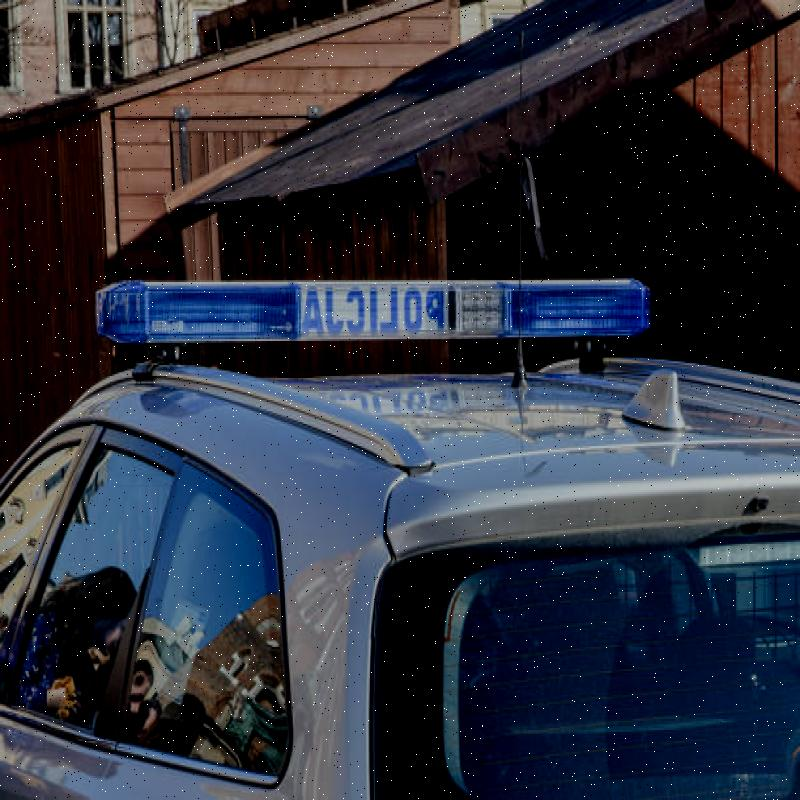AmbulanceSiren: (98, 228, 672, 379)
